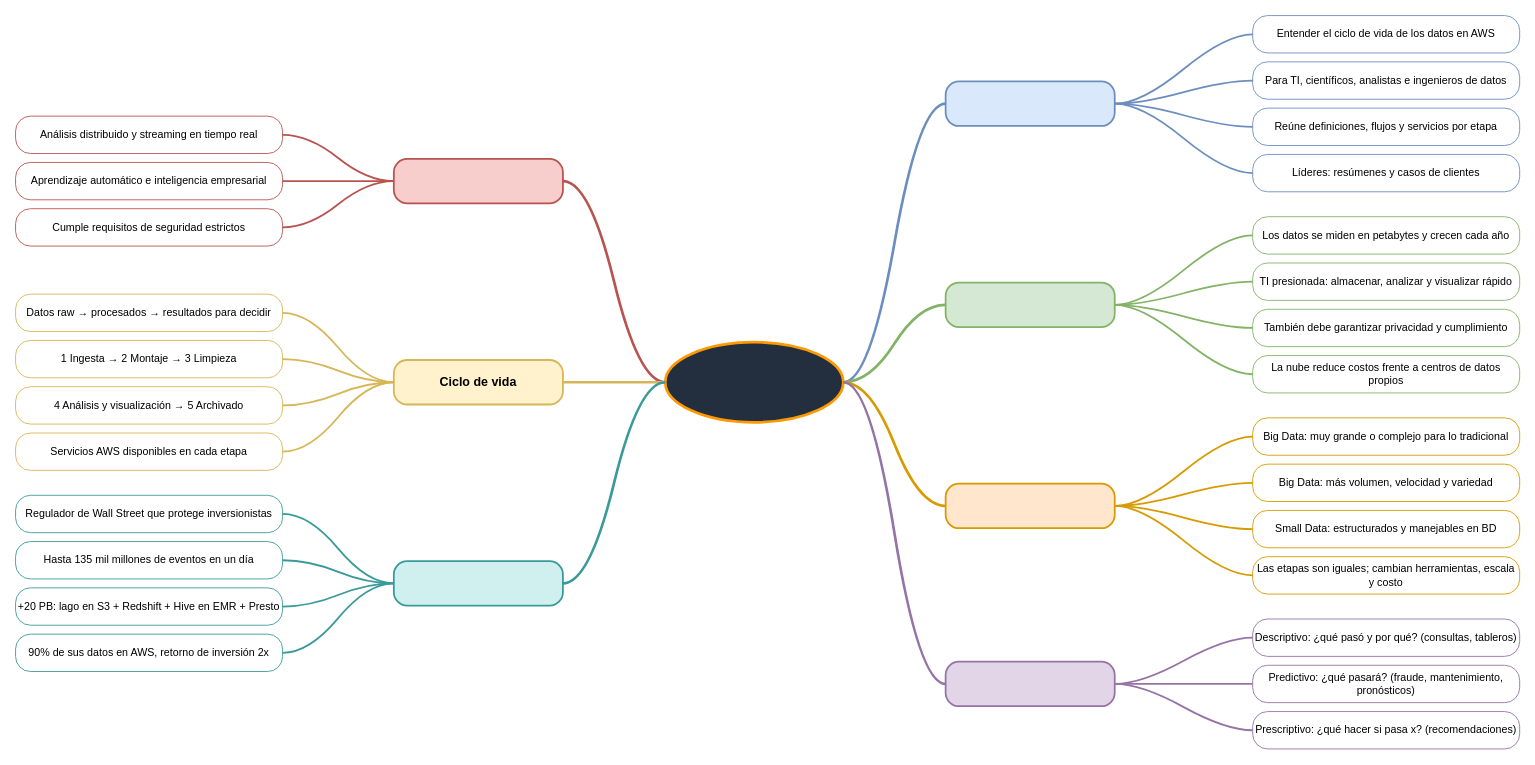
The diagram is 1535 pixels wide and 765 high, and some of its shapes have lost their labels. Each missing label, with the box of its shape:
9 · Introducción: (663, 340, 844, 423)
Big Data vs Small Data: (944, 482, 1115, 529)
Caso FINRA: (392, 560, 563, 606)
Contexto: (944, 281, 1115, 328)
Plataforma AWS: (392, 158, 563, 204)
Propósito de la guía: (944, 80, 1115, 126)
Tipos de análisis: (944, 660, 1115, 707)
